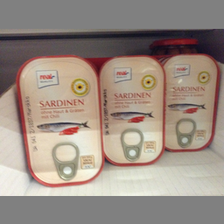fish: (16, 56, 102, 187), (100, 56, 164, 167), (163, 53, 220, 152)
